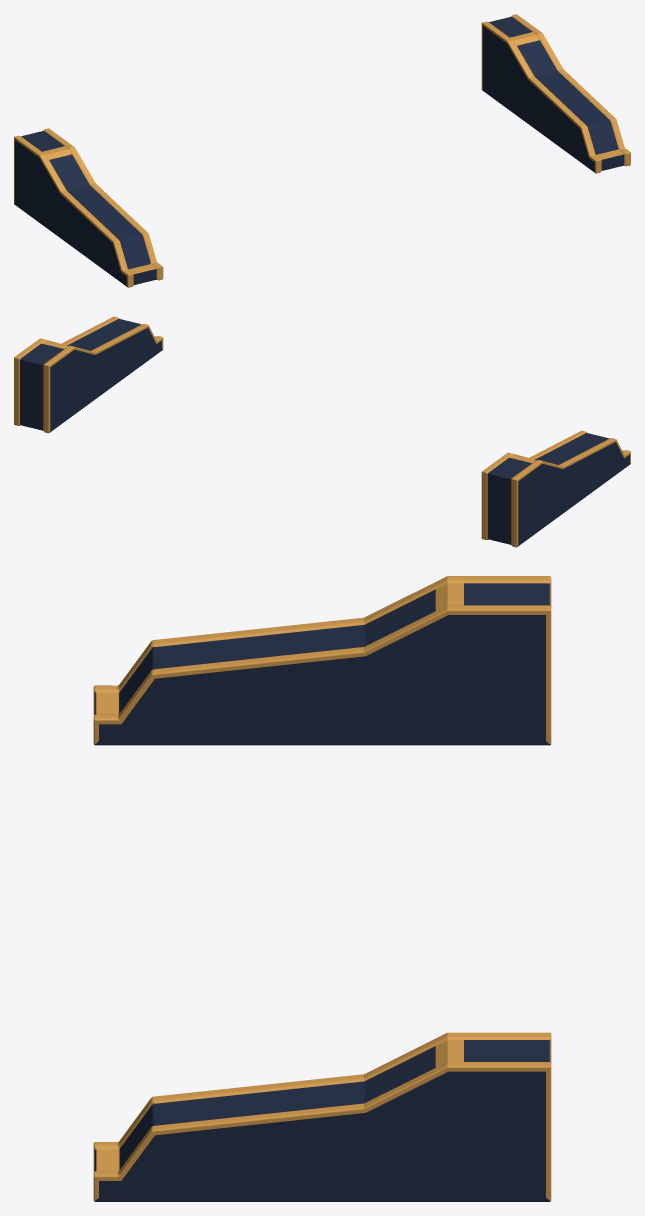
File: endcaps.glb
3 renders of one model, top to bottom at view 1: azimuth 30°, elevation 25°; view 2: azimuth 150°, elevation 25°; view 3: azimuth 270°, elevation 25°, orthographic. The views are drawn at different scales.
Parts seen in each view (by area): view 1: Endcap | right | sculpted body and gold edging, Endcap | left | sculpted body and gold edging; view 2: Endcap | left | sculpted body and gold edging, Endcap | right | sculpted body and gold edging; view 3: Endcap | left | sculpted body and gold edging, Endcap | right | sculpted body and gold edging.
Boxes of the visible parts, <box> form: Endcap | right | sculpted body and gold edging: <box>481,14,630,173</box>; Endcap | left | sculpted body and gold edging: <box>14,128,163,287</box>; Endcap | left | sculpted body and gold edging: <box>481,430,630,547</box>; Endcap | right | sculpted body and gold edging: <box>14,316,163,433</box>; Endcap | left | sculpted body and gold edging: <box>93,576,551,745</box>; Endcap | right | sculpted body and gold edging: <box>93,1032,551,1201</box>.
Size of the model in its own units: 13.96 by 1.8 by 5.5.
